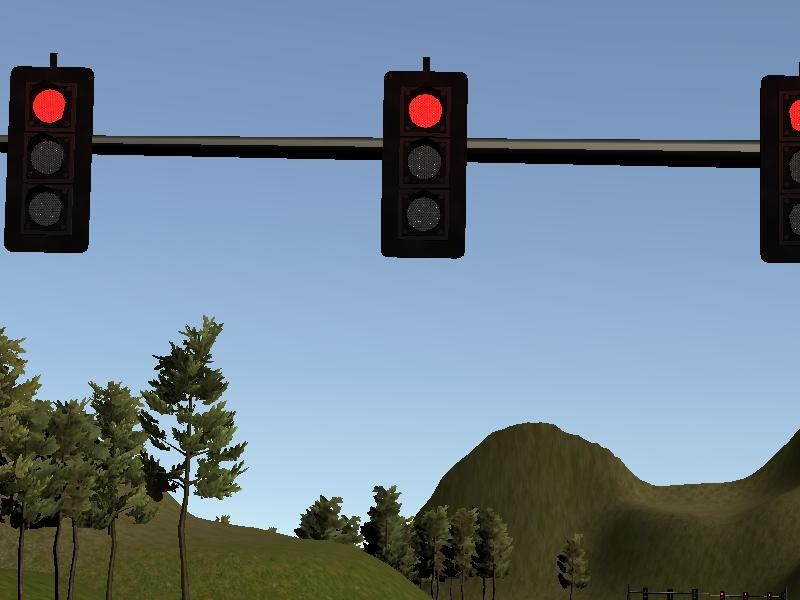traffic_light_red: (4, 53, 798, 271)
